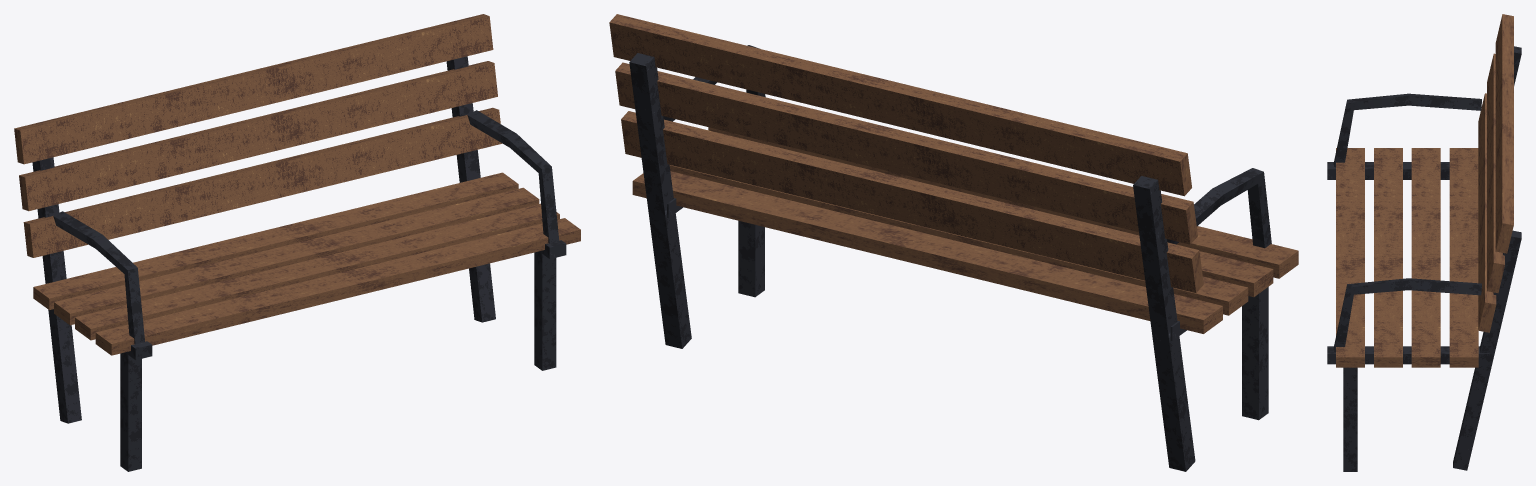
Rendered from garden_bench.glb.
3 views of the same model, side by side, from view 1: azimuth 30°, elevation 25°; view 2: azimuth 150°, elevation 25°; view 3: azimuth 270°, elevation 25° (orthographic). The views are drawn at different scales.
Parts seen in each view (by area): view 1: Prop; view 2: Prop; view 3: Prop.
Part boxes in pixels (<box>): Prop: <box>14,14,580,471</box>; Prop: <box>609,14,1298,471</box>; Prop: <box>1327,14,1521,471</box>.
Bounding box in the file's own units: 1.7 × 0.978 × 0.668.
Materials: 2 (2 with a texture image).
